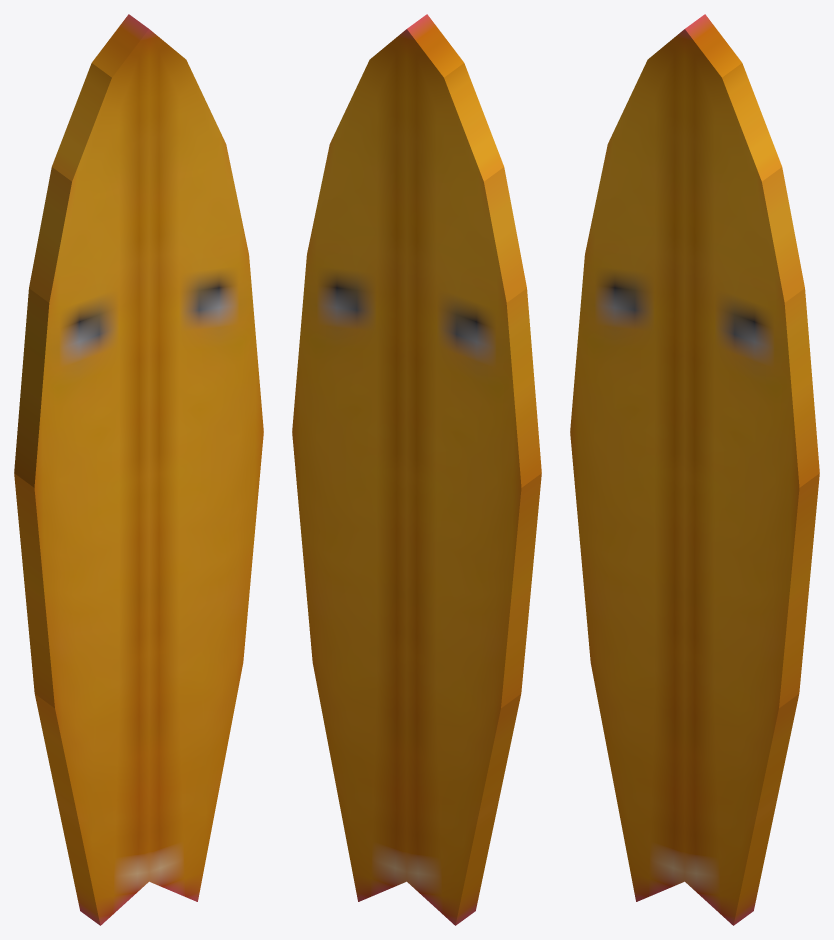
Rendered from Tabla 01.fbx.
3 renders of one model, left to right at view 1: azimuth 30°, elevation 25°; view 2: azimuth 150°, elevation 25°; view 3: azimuth 330°, elevation 25°, orthographic.
Parts seen in each view (by area): view 1: Tabla 01; view 2: Tabla 01; view 3: Tabla 01.
Boxes of the visible parts, x1,y1,x2,y2 form: Tabla 01: (14, 14, 263, 925); Tabla 01: (292, 14, 541, 925); Tabla 01: (570, 14, 819, 925).
Bounding box in the file's own units: 97.52 × 360 × 15.
